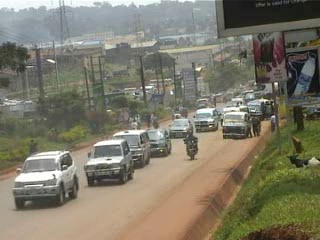Car: (9, 146, 80, 208), (83, 138, 138, 190), (143, 125, 172, 158), (166, 114, 195, 139)
Motorcycle: (180, 129, 200, 160), (128, 116, 144, 130), (150, 113, 162, 130)
